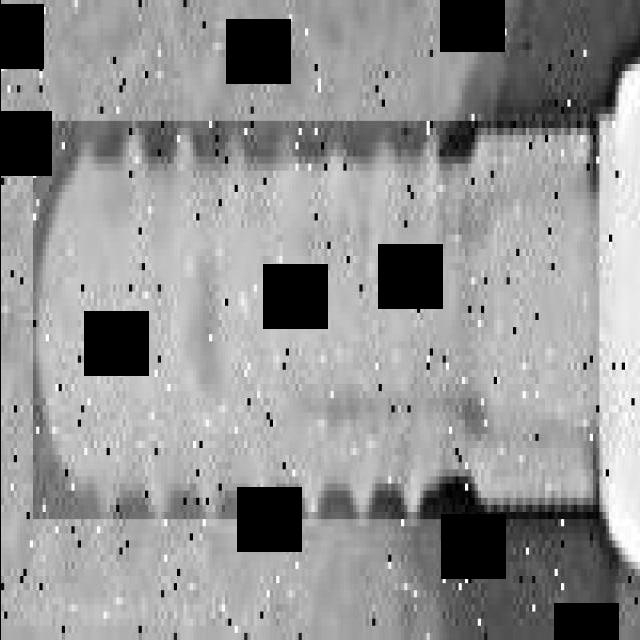Prefabricated metal post: (27, 117, 606, 529)
